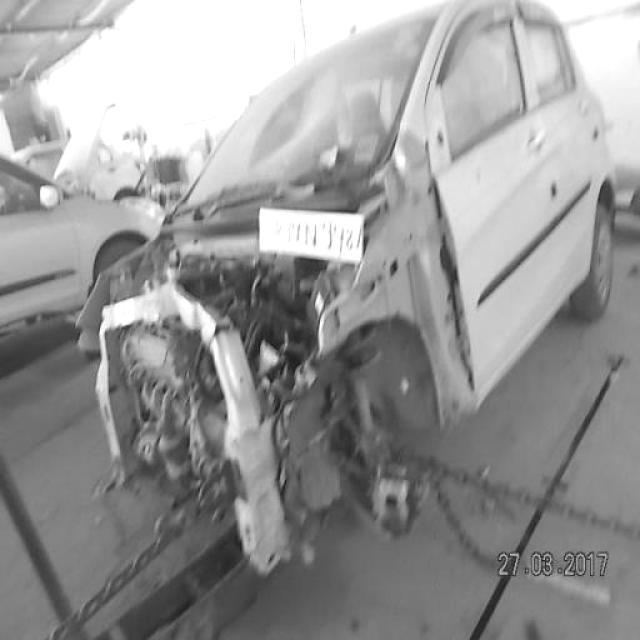car damage: (91, 220, 469, 548)
